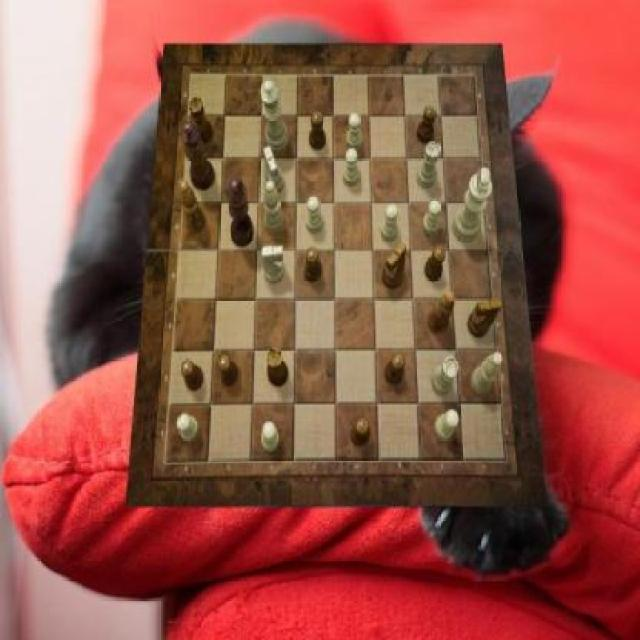bishop: (178, 180, 206, 234), (428, 290, 455, 334)
black-bishop: (228, 177, 255, 249)
black-king: (468, 300, 502, 338), (382, 243, 406, 291)
black-knight: (424, 246, 446, 282), (417, 106, 437, 145), (182, 360, 204, 392), (218, 354, 240, 386), (384, 354, 406, 386), (309, 111, 326, 151), (351, 417, 371, 448), (305, 248, 322, 282)
black-pawn: (180, 120, 215, 191)
black-queen: (189, 96, 213, 144), (266, 348, 289, 388)
black-rook: (471, 352, 502, 395), (264, 180, 286, 235)
white-bishop: (454, 168, 494, 242)
white-king: (263, 148, 284, 195), (263, 246, 286, 285)
white-knight: (434, 411, 458, 443), (306, 197, 324, 235), (423, 199, 441, 236), (343, 148, 360, 186), (382, 205, 399, 242), (177, 414, 200, 441), (346, 114, 362, 152), (262, 422, 280, 452)
white-pawn: (260, 78, 289, 152)
white-queen: (417, 142, 441, 189), (432, 357, 460, 395)
